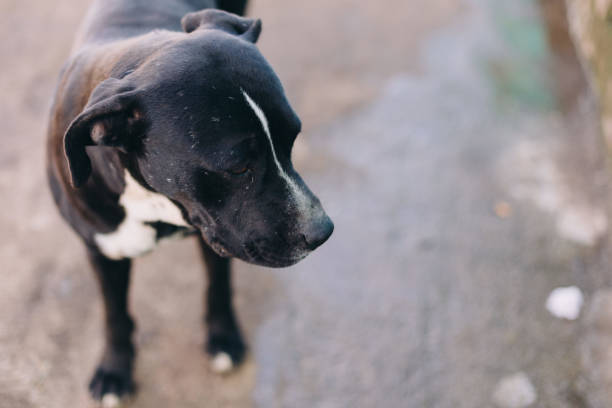dog: (23, 2, 365, 404)
